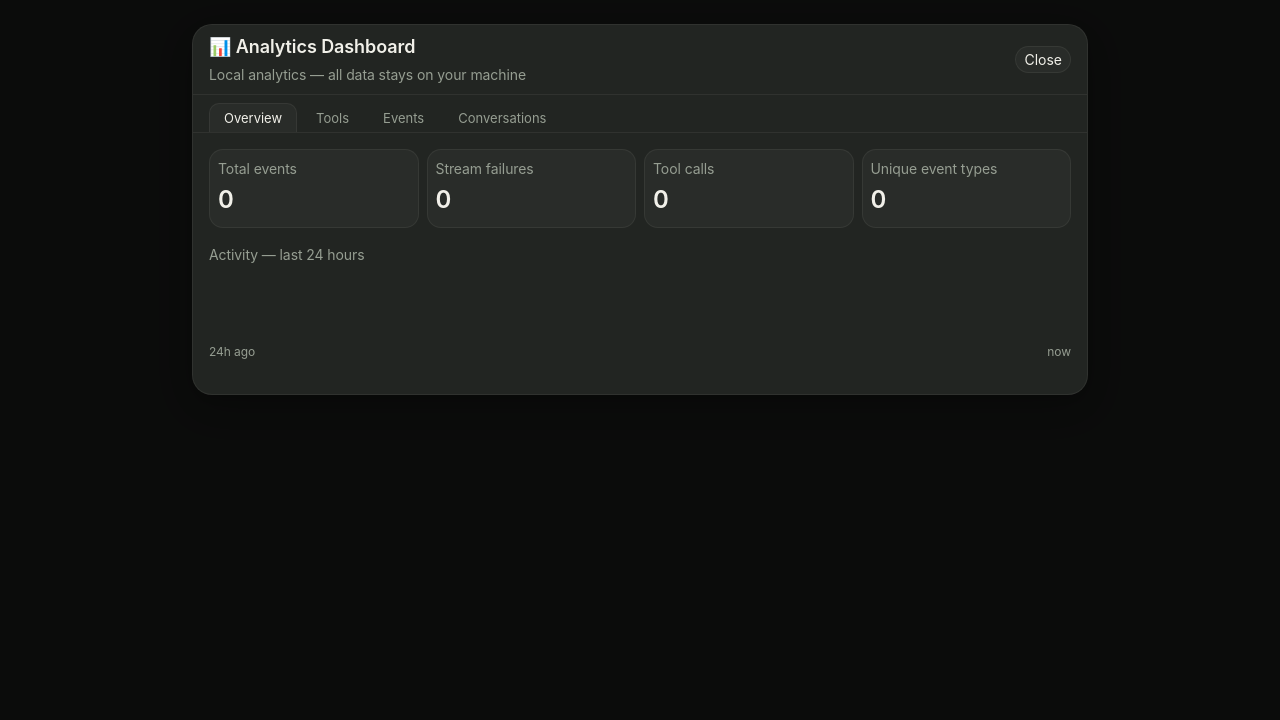
TelemetryDashboard — events tab › shows "No telemetry events recorded." when events list is empty
Click the button "Events". click: click(404, 118)
box: left=368, top=103, right=439, bottom=132
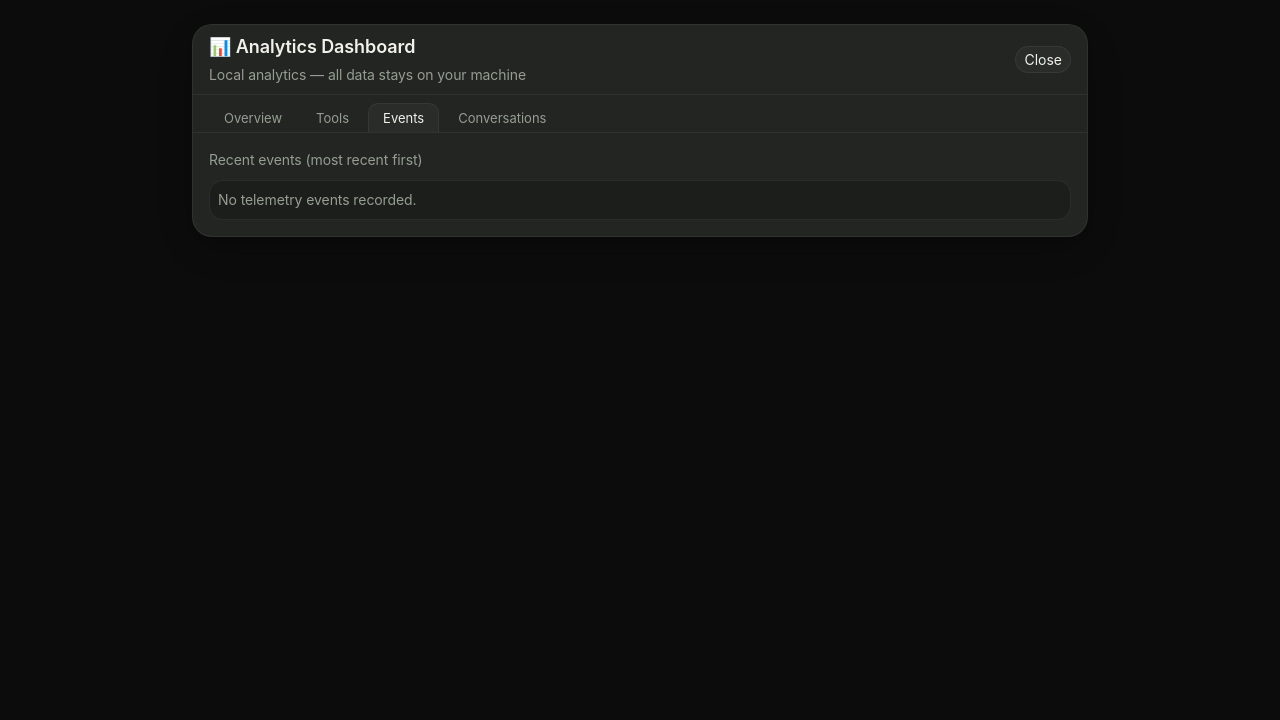
Now the text "No telemetry events recorded." is shown, box left=218, top=191, right=417, bottom=208
